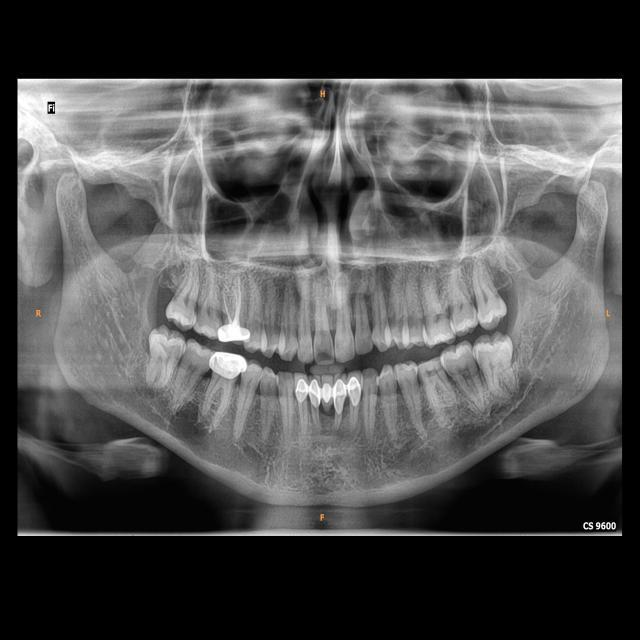kanal-tedavisi: (220, 275, 243, 324)
kaplama: (209, 348, 248, 385), (220, 321, 250, 348), (347, 373, 362, 410), (332, 380, 347, 414), (295, 375, 310, 404), (310, 378, 320, 409)
kopru: (306, 377, 348, 405)
